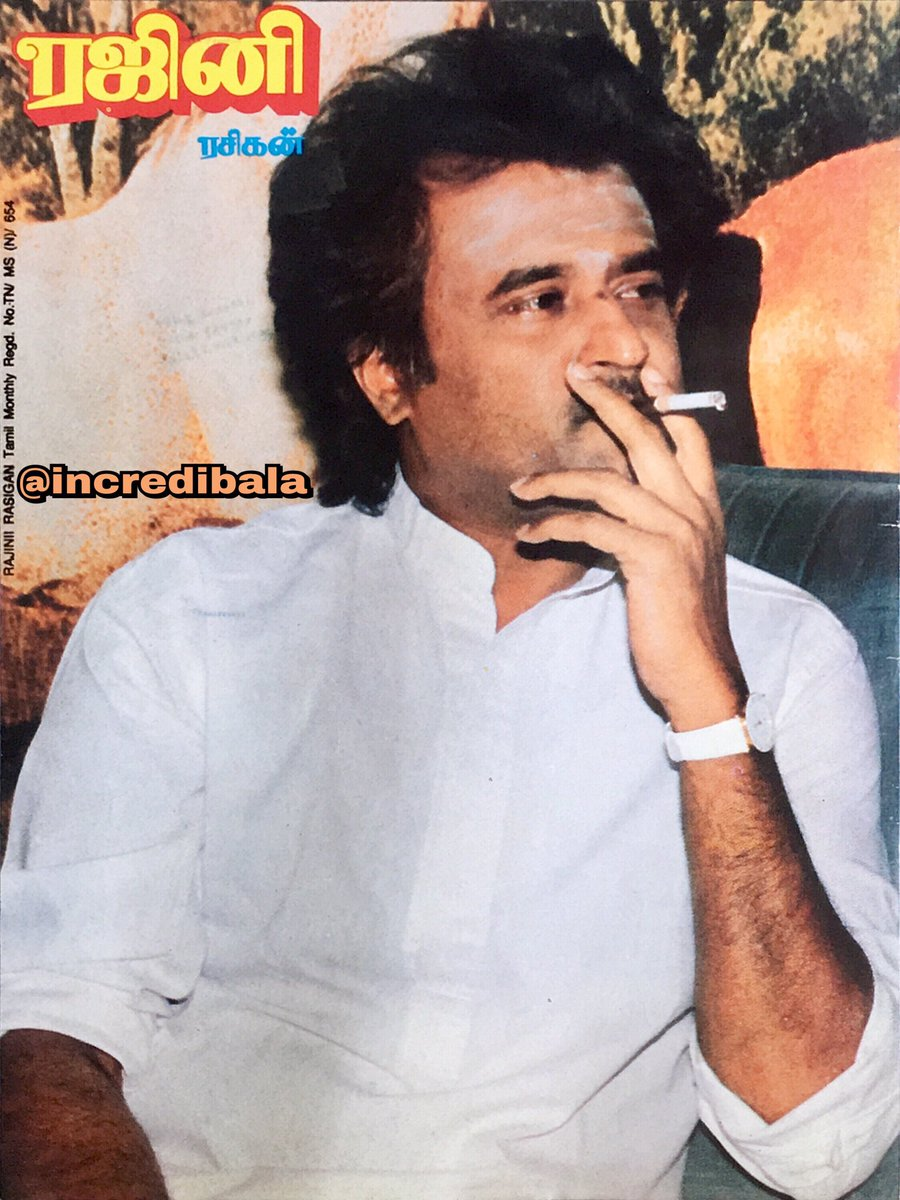cigarette: (610, 389, 748, 420)
